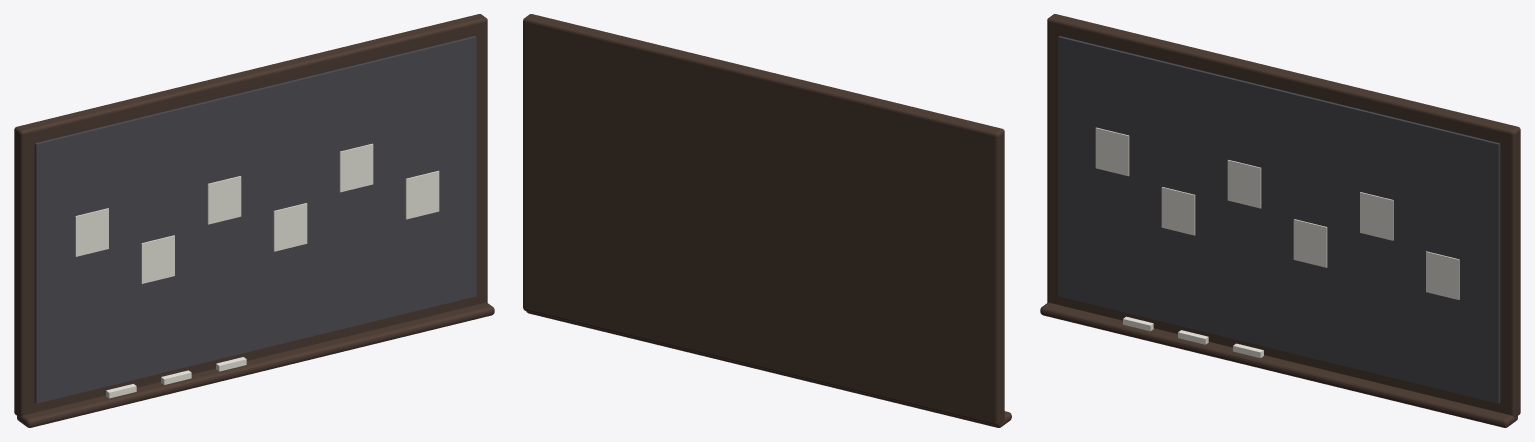
The model's file is blackboard_rune_slate.glb.
3 renders of one model, left to right at view 1: azimuth 30°, elevation 25°; view 2: azimuth 150°, elevation 25°; view 3: azimuth 330°, elevation 25°, orthographic.
Parts seen in each view (by area): view 1: GD_blackboard_rune_slate__m1, GD_blackboard_rune_slate__m0, GD_blackboard_rune_slate__m2; view 2: GD_blackboard_rune_slate__m0; view 3: GD_blackboard_rune_slate__m1, GD_blackboard_rune_slate__m0, GD_blackboard_rune_slate__m2.
Boxes of the visible parts, left/top/right/bottom form: GD_blackboard_rune_slate__m1: left=34, top=36, right=476, bottom=403; GD_blackboard_rune_slate__m0: left=14, top=14, right=494, bottom=427; GD_blackboard_rune_slate__m2: left=75, top=143, right=439, bottom=398; GD_blackboard_rune_slate__m0: left=523, top=14, right=1011, bottom=427; GD_blackboard_rune_slate__m1: left=1058, top=36, right=1500, bottom=403; GD_blackboard_rune_slate__m0: left=1040, top=14, right=1520, bottom=427; GD_blackboard_rune_slate__m2: left=1095, top=127, right=1459, bottom=357.
Bounding box in the file's own units: 1.7 × 1.01 × 0.095.
